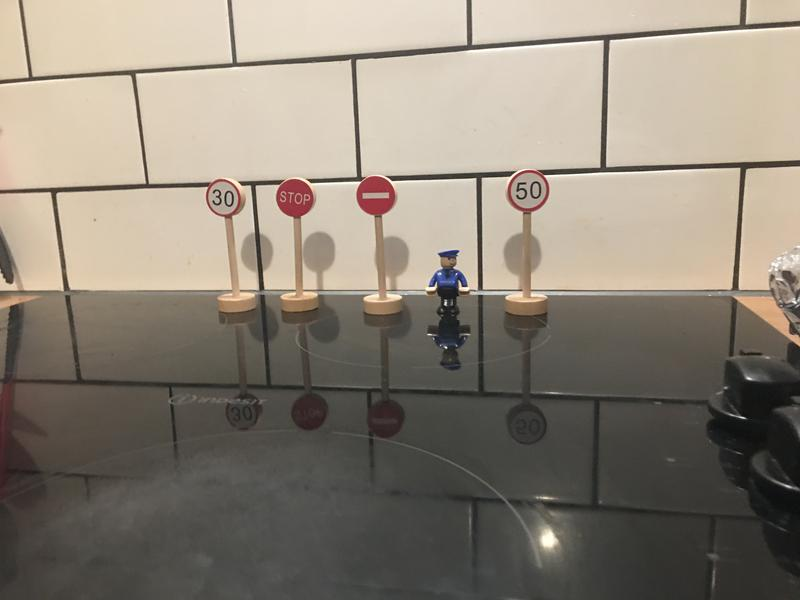Traffic_Sign_30: (204, 179, 241, 215)
Traffic_Sign_50: (508, 169, 548, 209)
Traffic_Sign_No_Entry: (356, 176, 396, 216)
Traffic_Sign_Stop: (277, 179, 314, 215)
person: (425, 248, 469, 319)
